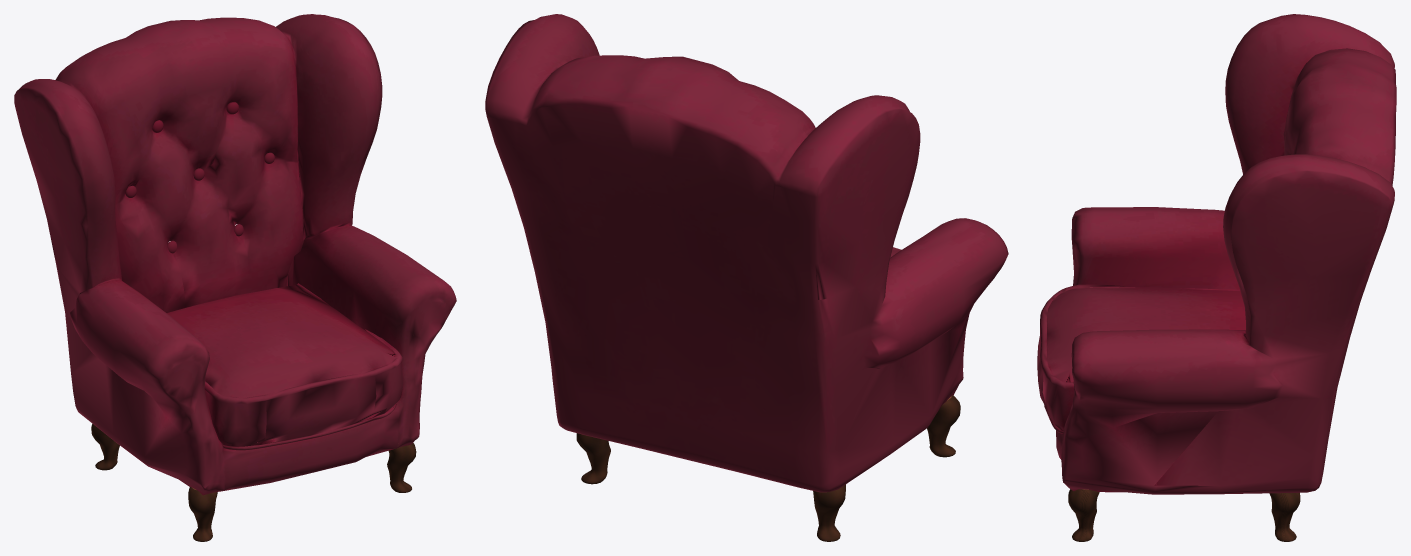
The model's file is wingback_armchair_v2.glb.
The picture shows the model from 3 angles, left to right: view 1: azimuth 30°, elevation 25°; view 2: azimuth 150°, elevation 25°; view 3: azimuth 270°, elevation 25°; orthographic projection. The views are drawn at different scales.
Parts seen in each view (by area): view 1: wingback_armchair_v2; view 2: wingback_armchair_v2; view 3: wingback_armchair_v2.
Boxes of the visible parts, x1,y1,x2,y2 form: wingback_armchair_v2: (14, 14, 456, 541); wingback_armchair_v2: (485, 14, 1008, 541); wingback_armchair_v2: (1037, 14, 1396, 541).
Bounding box in the file's own units: 1.17 × 1.41 × 1.11.
Materials: 2 (2 with a texture image).
